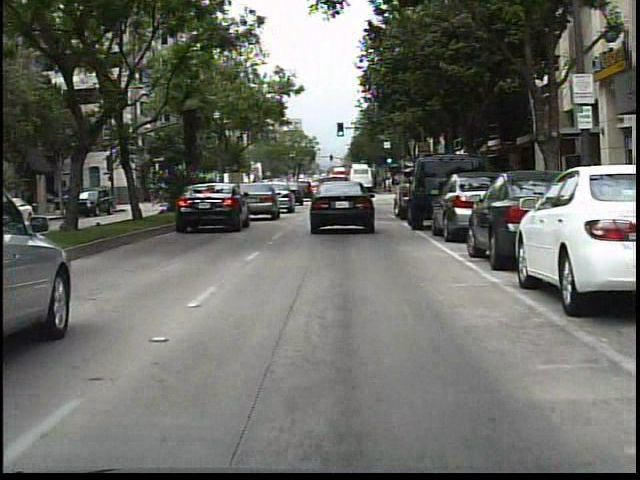person: (576, 154, 599, 221)
